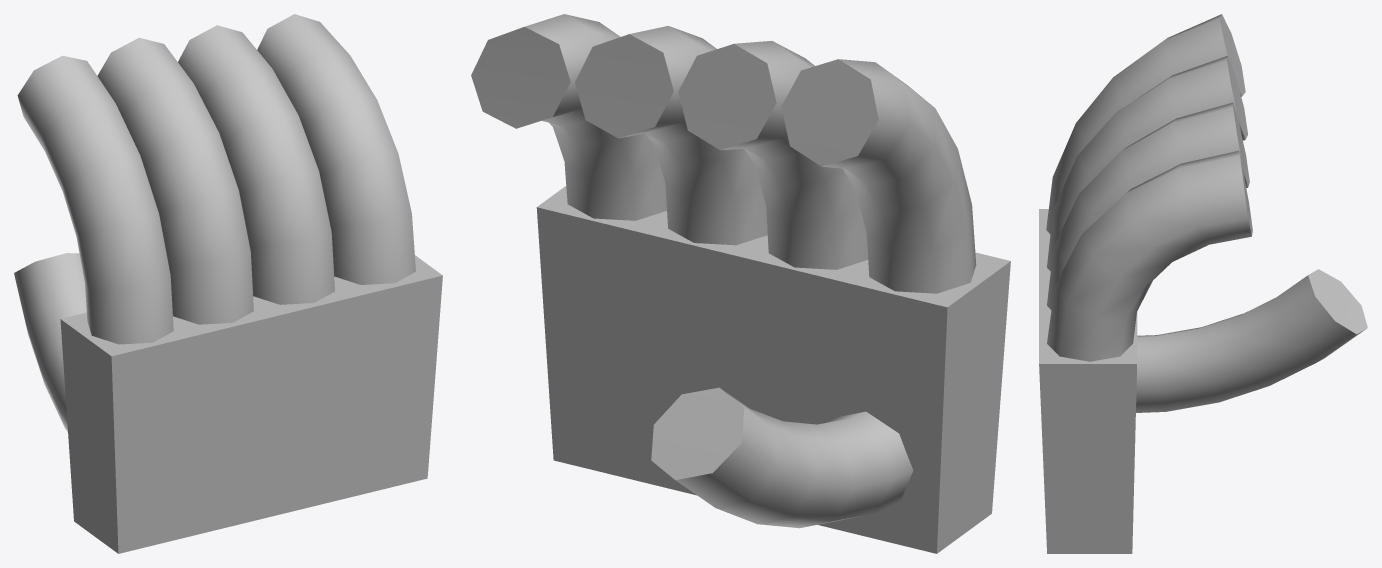
The model's file is RobotHand.glb.
3 views of the same model, side by side, from view 1: azimuth 30°, elevation 25°; view 2: azimuth 150°, elevation 25°; view 3: azimuth 270°, elevation 25° (orthographic). The views are drawn at different scales.
Visible parts, largest first — view 1: node_id40, node_id36, node_id34, node_id38; view 2: node_id40, node_id36, node_id34, node_id38; view 3: node_id36, node_id40, node_id38, node_id34.
Part boxes in pixels (<box>): node_id40: <box>60,255,442,553</box>; node_id36: <box>97,14,415,324</box>; node_id34: <box>17,55,173,344</box>; node_id38: <box>14,253,86,431</box>; node_id40: <box>536,186,1010,553</box>; node_id36: <box>471,14,868,269</box>; node_id34: <box>781,59,976,293</box>; node_id38: <box>651,387,913,528</box>; node_id36: <box>1047,55,1252,361</box>; node_id40: <box>1039,209,1137,553</box>; node_id38: <box>1136,269,1367,412</box>; node_id34: <box>1046,14,1245,234</box>.
Bounding box in the file's own units: 0.4186 × 0.512 × 0.3751.
Materials: 4 (4 with a texture image).
